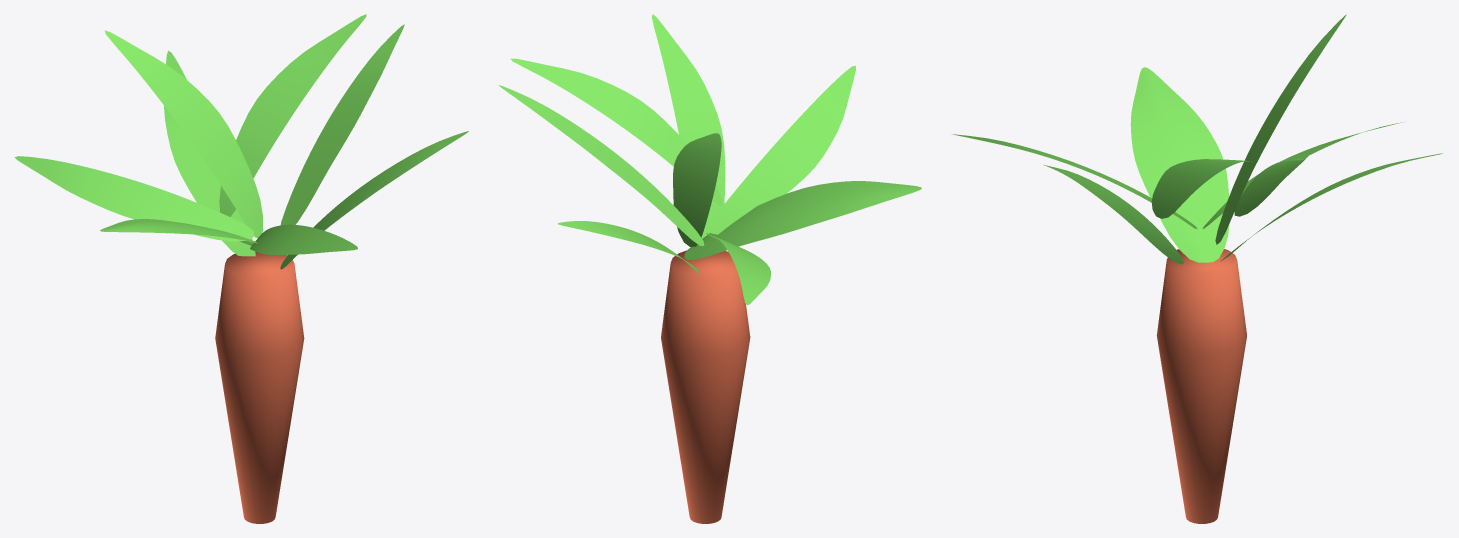
The model's file is plane.024_lev3.glb.
3 renders of one model, left to right at view 1: azimuth 30°, elevation 25°; view 2: azimuth 150°, elevation 25°; view 3: azimuth 270°, elevation 25°, orthographic.
Visible parts, largest first — view 1: plane.024_lev3; view 2: plane.024_lev3; view 3: plane.024_lev3.
Boxes of the visible parts, x1,y1,x2,y2 form: plane.024_lev3: (14,14,468,523); plane.024_lev3: (498,14,921,523); plane.024_lev3: (952,14,1442,523).
Size of the model in its own units: 0.1343 by 0.1637 by 0.1587.
